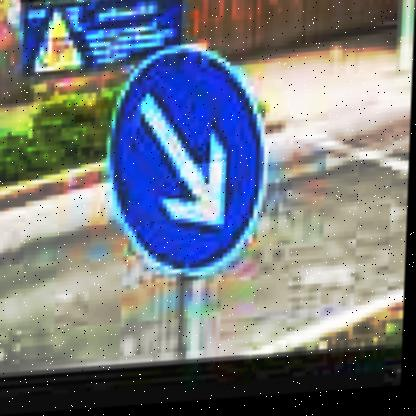Keep right: (106, 42, 270, 283)
